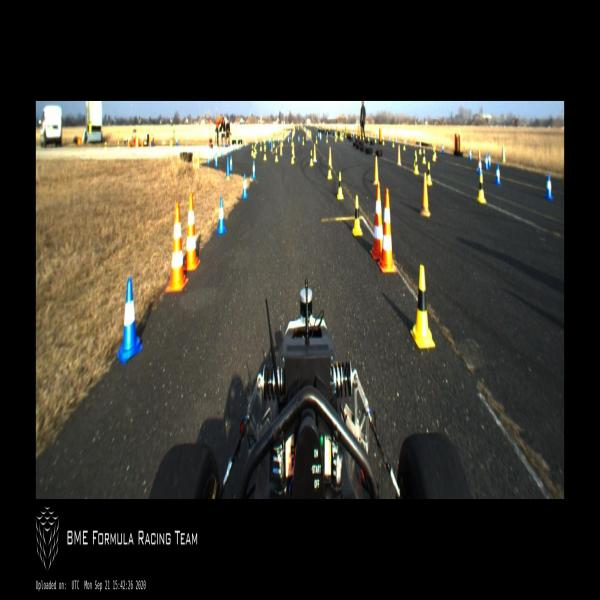blue_cone: (117, 278, 144, 366), (216, 197, 226, 233), (545, 173, 553, 201), (242, 173, 248, 198), (495, 164, 501, 185), (477, 159, 484, 174), (252, 159, 256, 179), (229, 154, 233, 171), (484, 154, 488, 171), (215, 153, 218, 167), (488, 153, 491, 167), (469, 148, 472, 161), (227, 143, 230, 154), (221, 146, 224, 157), (207, 154, 210, 164), (442, 143, 444, 154), (213, 151, 215, 161), (176, 136, 178, 146), (320, 132, 322, 141), (278, 137, 280, 144), (298, 136, 300, 142), (388, 135, 390, 141), (371, 134, 373, 140), (326, 130, 328, 136), (334, 129, 336, 135), (234, 142, 235, 152), (240, 140, 241, 148), (245, 139, 246, 147), (288, 136, 289, 144), (308, 134, 309, 142), (396, 137, 397, 144), (353, 132, 354, 138), (269, 138, 270, 144), (283, 133, 284, 139), (318, 132, 319, 138), (343, 132, 344, 136), (378, 135, 378, 142)
large_orange_cone: (165, 202, 189, 294), (378, 188, 397, 274), (183, 192, 201, 272), (370, 184, 384, 260)
unknown_cone: (419, 173, 431, 217), (373, 156, 380, 184), (476, 149, 482, 172), (397, 143, 402, 166), (328, 146, 333, 168), (313, 144, 317, 162), (502, 146, 506, 162), (226, 156, 229, 176), (280, 140, 282, 156), (270, 138, 272, 151), (289, 133, 291, 139)
yellow_cone: (410, 265, 436, 349), (352, 195, 363, 236), (477, 173, 486, 203), (337, 170, 344, 199), (427, 163, 432, 186), (327, 159, 332, 179), (414, 155, 419, 174), (413, 151, 418, 165), (310, 150, 314, 166), (274, 149, 278, 162), (291, 148, 294, 164), (423, 148, 426, 164), (433, 147, 436, 161), (292, 143, 295, 157), (419, 141, 422, 154), (253, 146, 256, 158), (403, 139, 406, 151), (309, 130, 312, 140), (302, 136, 305, 145), (334, 133, 337, 142), (251, 144, 253, 156), (315, 136, 318, 144), (264, 149, 266, 160), (392, 137, 394, 148), (367, 134, 370, 141), (260, 142, 262, 152), (341, 131, 343, 141), (306, 131, 308, 141), (256, 134, 258, 144), (264, 138, 266, 148), (291, 137, 293, 146), (170, 135, 172, 144), (273, 139, 275, 147), (326, 135, 328, 143), (382, 137, 384, 145), (350, 131, 352, 139), (336, 130, 338, 138), (292, 129, 294, 136), (340, 131, 341, 140), (375, 135, 376, 143), (292, 130, 293, 137), (345, 131, 346, 138), (356, 132, 357, 138), (360, 132, 361, 138), (363, 134, 364, 140)
